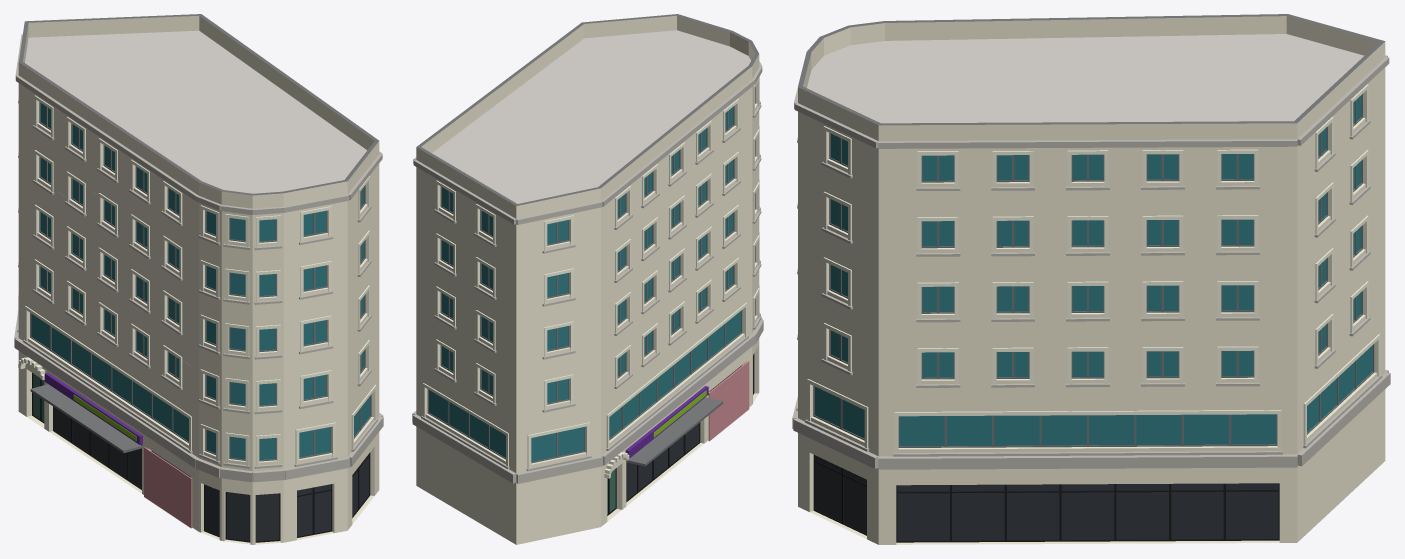
File: woongam531.glb
3 views of the same model, side by side, from view 1: azimuth 30°, elevation 25°; view 2: azimuth 150°, elevation 25°; view 3: azimuth 270°, elevation 25° (orthographic). The views are drawn at different scales.
Visible parts, largest first — view 1: woongam531; view 2: woongam531; view 3: woongam531.
Boxes of the visible parts, <box> form: woongam531: <box>14,14,383,544</box>; woongam531: <box>412,14,763,544</box>; woongam531: <box>792,14,1390,544</box>.
Size of the model in its own units: 13.33 by 21.1 by 27.27.
